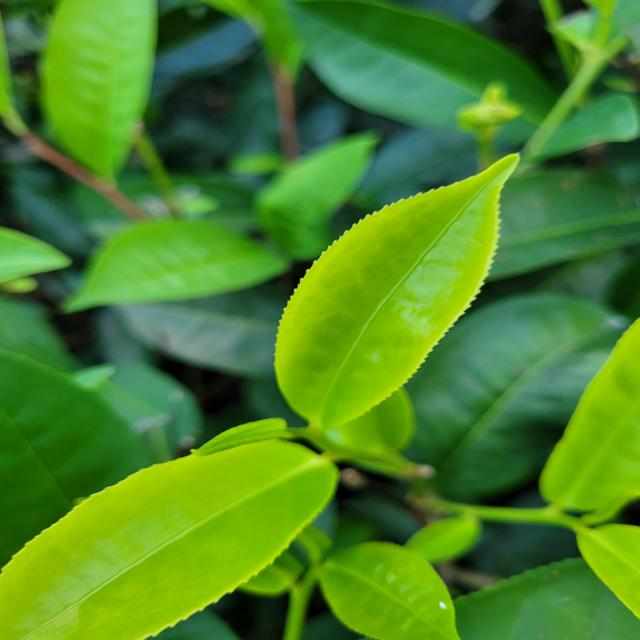Catagory A(1-2 days): (243, 147, 545, 435)
